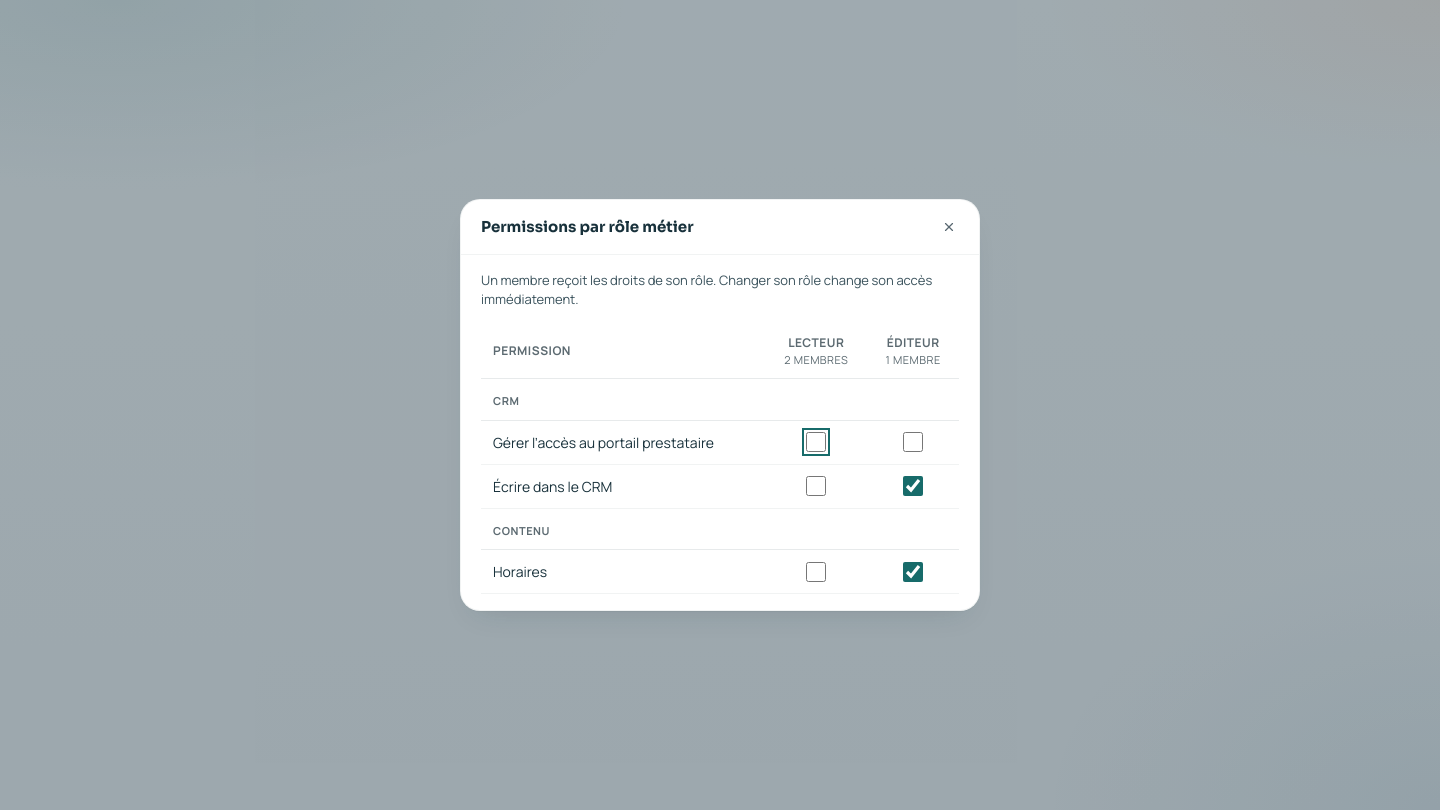
OrgRolePermissionsModal › un retrait annonce les membres qui PERDENT le droit
The image size is (1440, 810).
Click the checkbox named "Écrire dans le CRM — Éditeur" at (913,486), box left=903, top=476, right=923, bottom=496
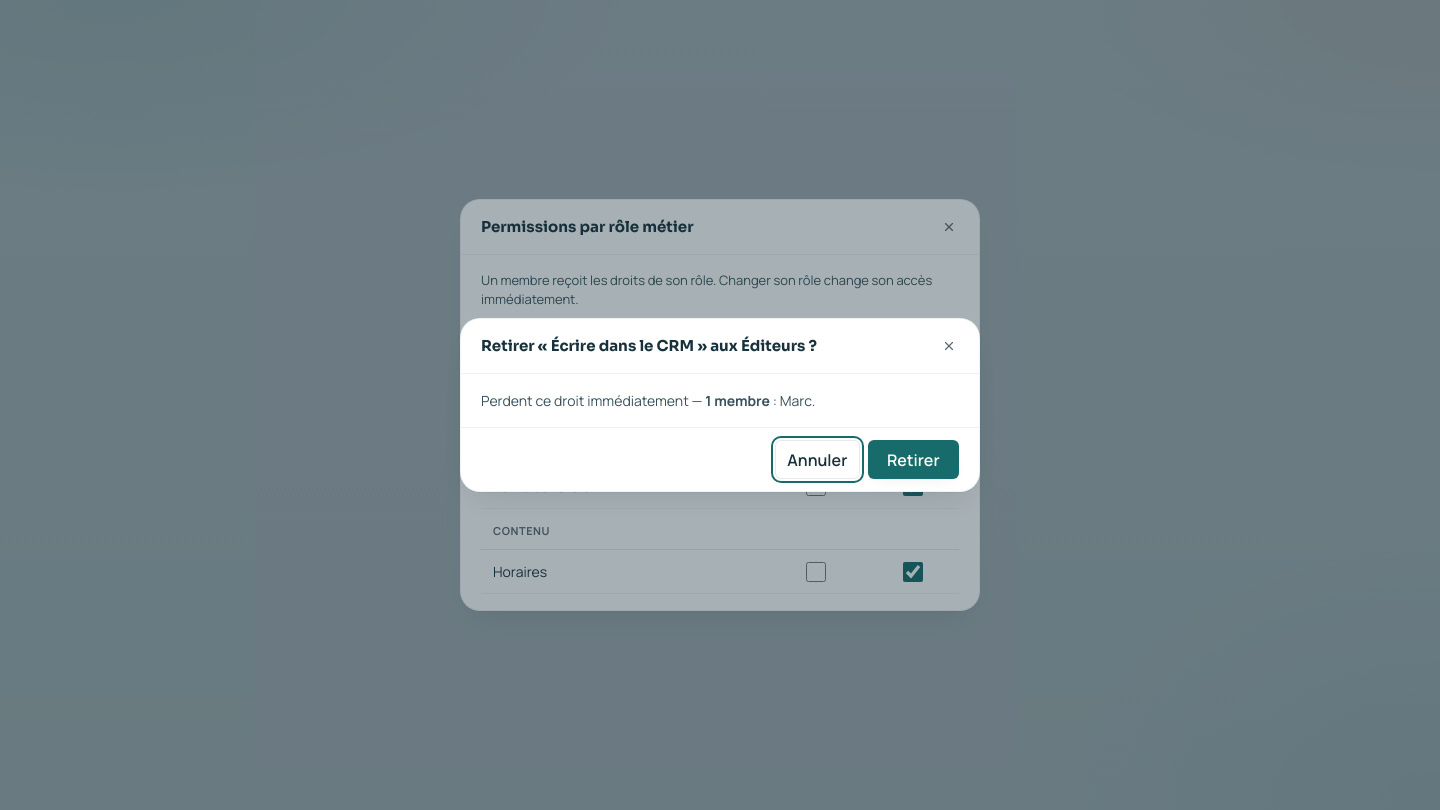
expect the text "Perdent ce droit immédiatement — 1 membre : Marc." is shown: met, box left=481, top=391, right=815, bottom=410
